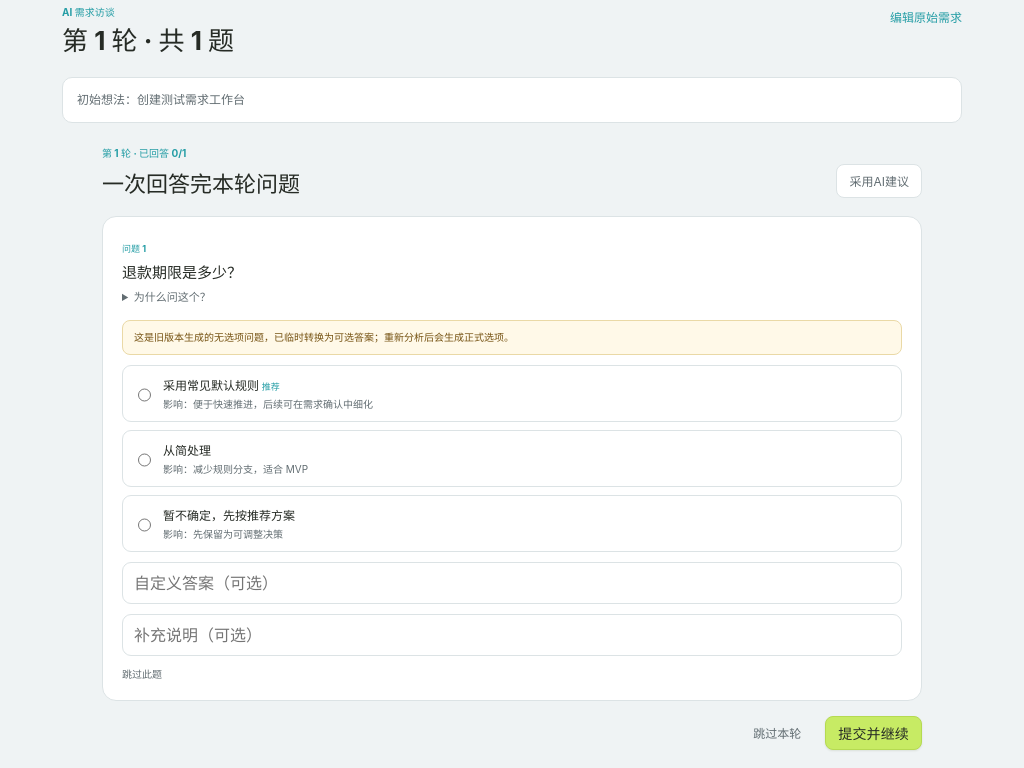
Test: QuestionWizardView › edits the original prompt inline without returning to requirement input
Click the button with class "wizard-view__link-button": (926, 16) [890,8,962,25]
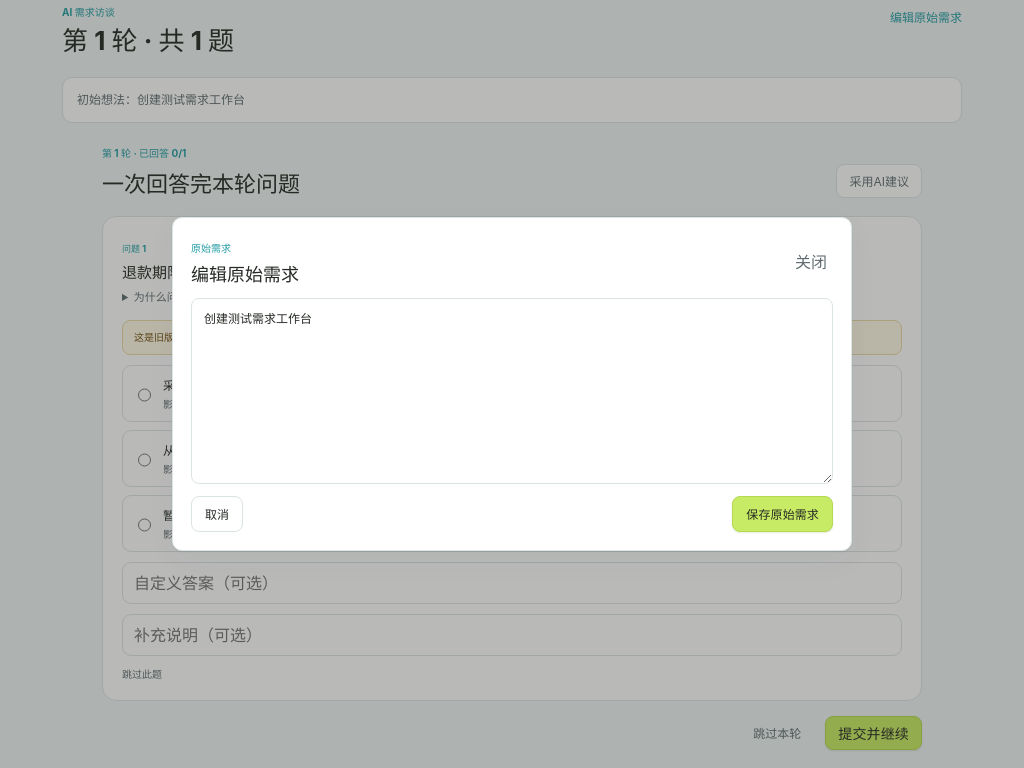
Replace the text in the text box with test id "original-prompt-editor" with "更新后的原始需求描述": (512, 391) [191,298,833,484]
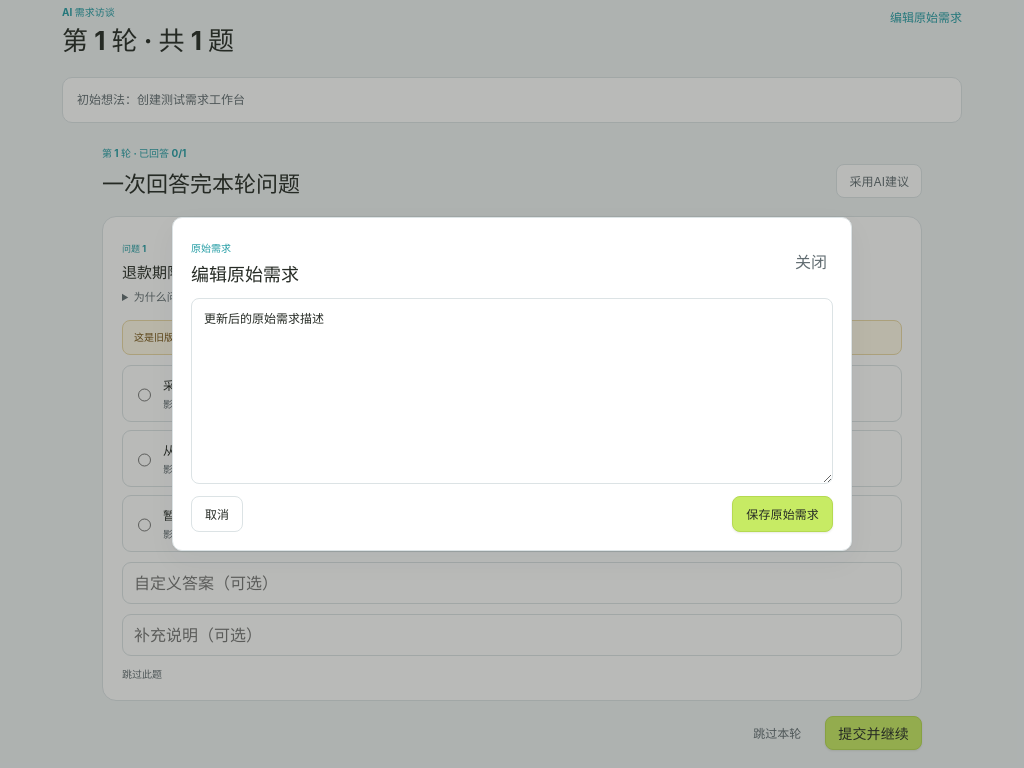
Submit the form with class "wizard-view__dialog", box [172,217,852,550]
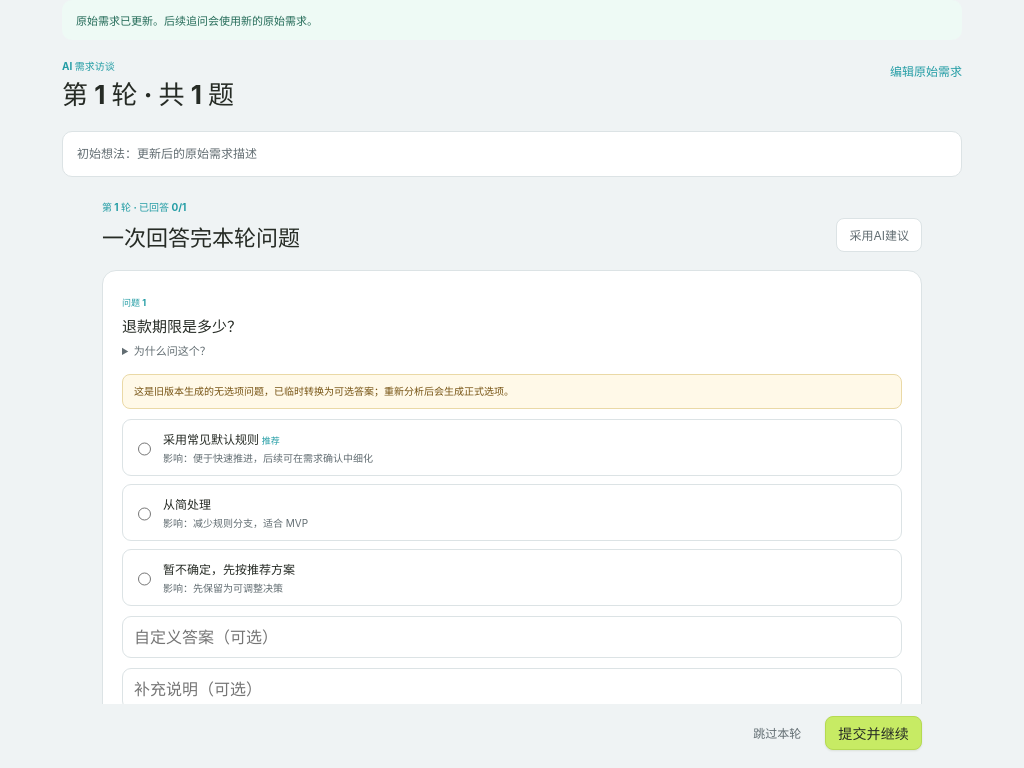
Check: the text "原始需求已更新" is shown, box [76,14,318,28]
Check: the text "更新后的原始需求描述" is shown, box [77,146,257,160]
